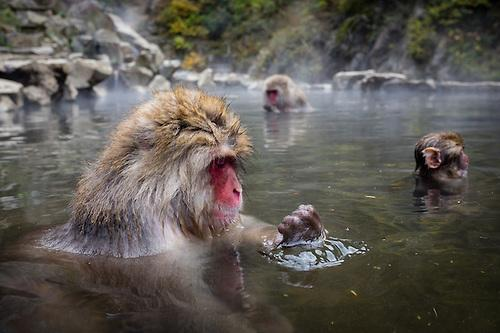monkey: (45, 81, 500, 309)
